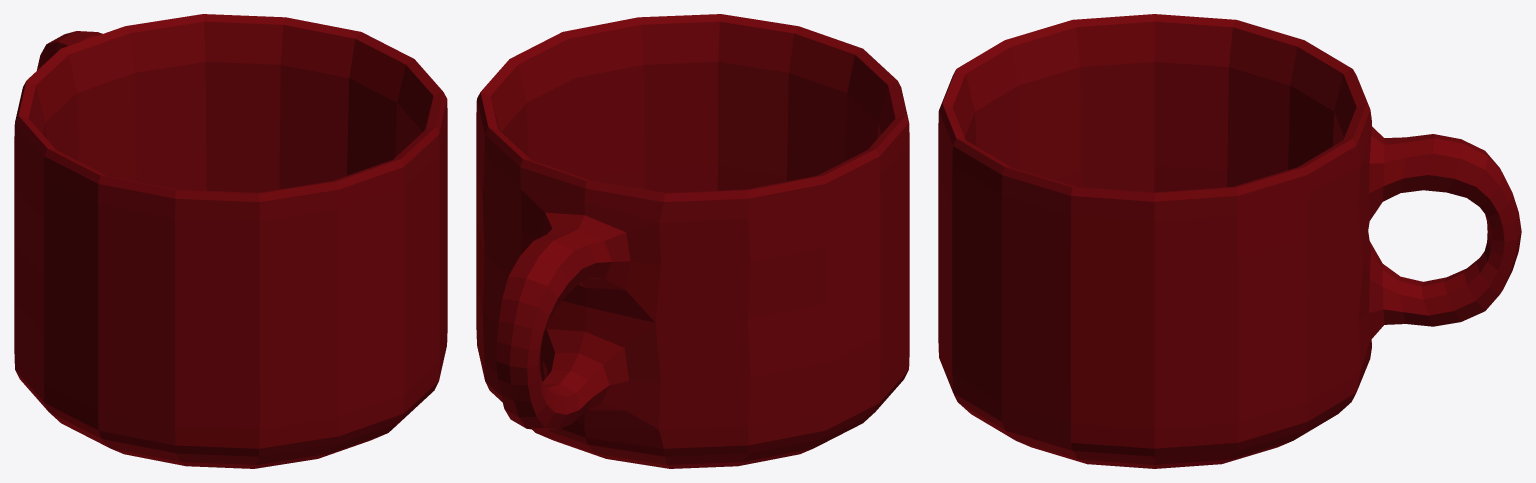
The model's file is Tasse.fbx.
3 views of the same model, side by side, from view 1: azimuth 30°, elevation 25°; view 2: azimuth 150°, elevation 25°; view 3: azimuth 270°, elevation 25° (orthographic).
Visible parts, largest first — view 1: Tasse; view 2: Tasse; view 3: Tasse.
Boxes of the visible parts, x1=… form: Tasse: x1=14, y1=14, x2=447, y2=468; Tasse: x1=476, y1=14, x2=909, y2=468; Tasse: x1=938, y1=14, x2=1521, y2=468.
Bounding box in the file's own units: 361 × 281 × 487.
